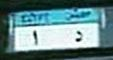1: (33, 29, 38, 45)
daal: (73, 29, 84, 42)
